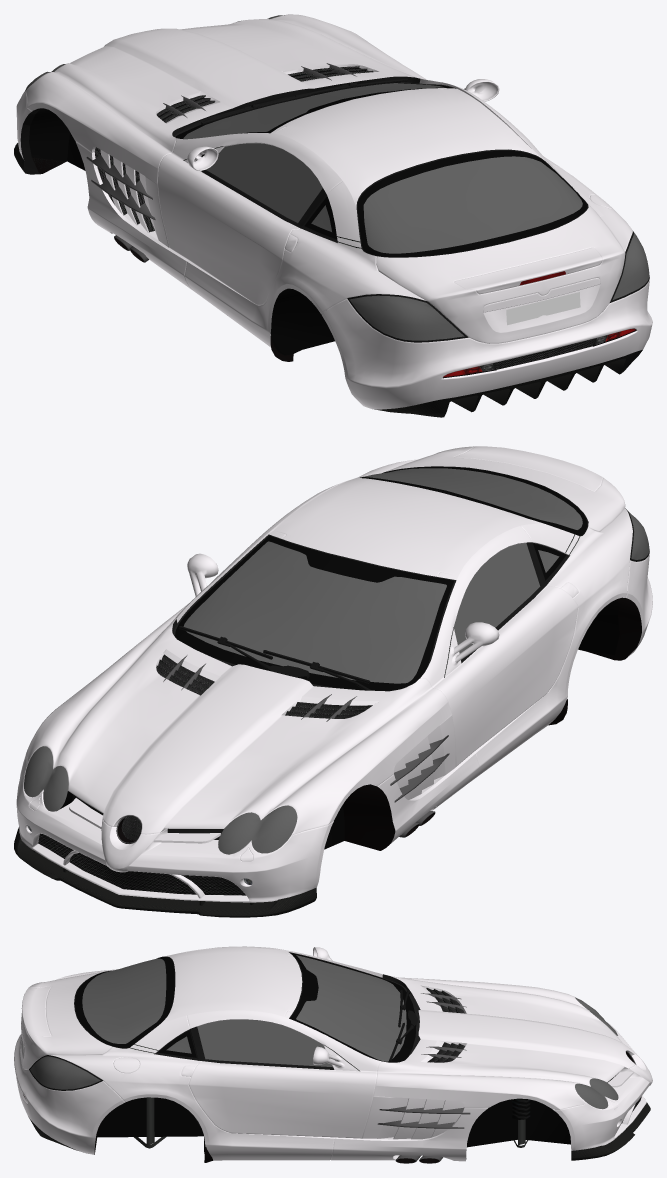
File: car.fbx
The picture shows the model from 3 angles, top to bottom: view 1: azimuth 30°, elevation 25°; view 2: azimuth 150°, elevation 25°; view 3: azimuth 270°, elevation 25°; orthographic projection. The views are drawn at different scales.
Visible parts, largest first — view 1: body_LOD0; view 2: body_LOD0; view 3: body_LOD0.
Boxes of the visible parts, x1,y1,x2,y2 form: body_LOD0: (14,14,652,417); body_LOD0: (14,446,652,917); body_LOD0: (14,946,652,1163).
Size of the model in its own units: 211 by 126 by 516.
